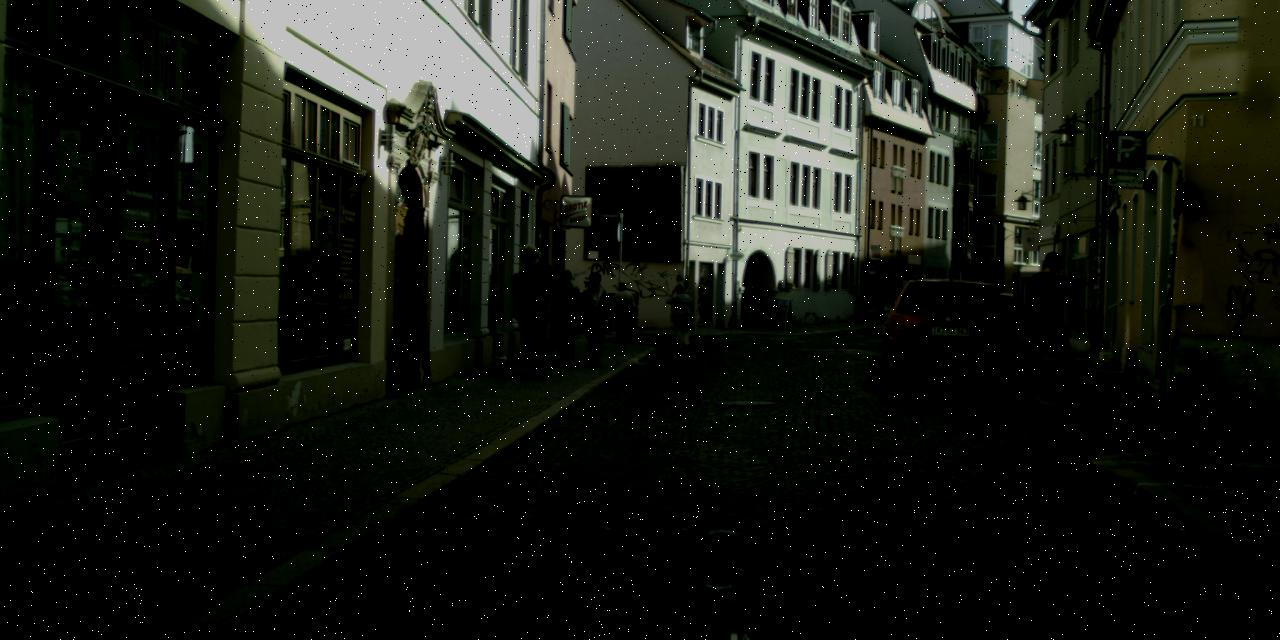ped: (1025, 251, 1087, 405), (504, 242, 558, 376), (546, 268, 584, 363), (575, 271, 613, 365), (608, 282, 635, 347), (668, 283, 694, 349)
